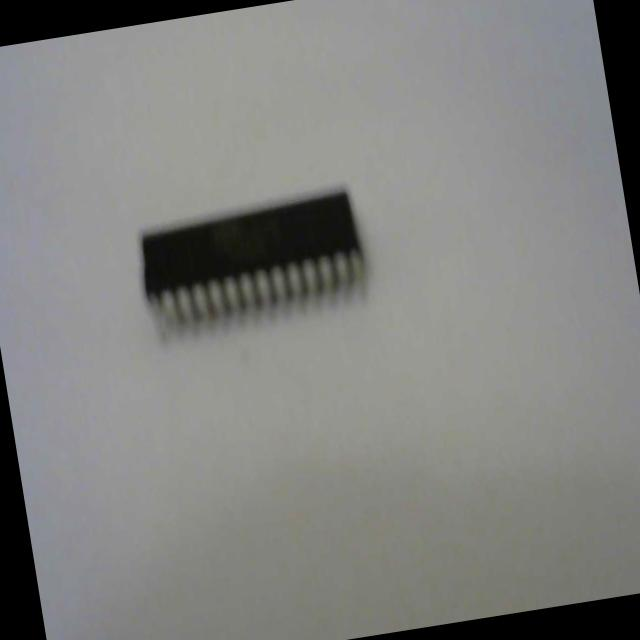atmega: (129, 181, 376, 350)
